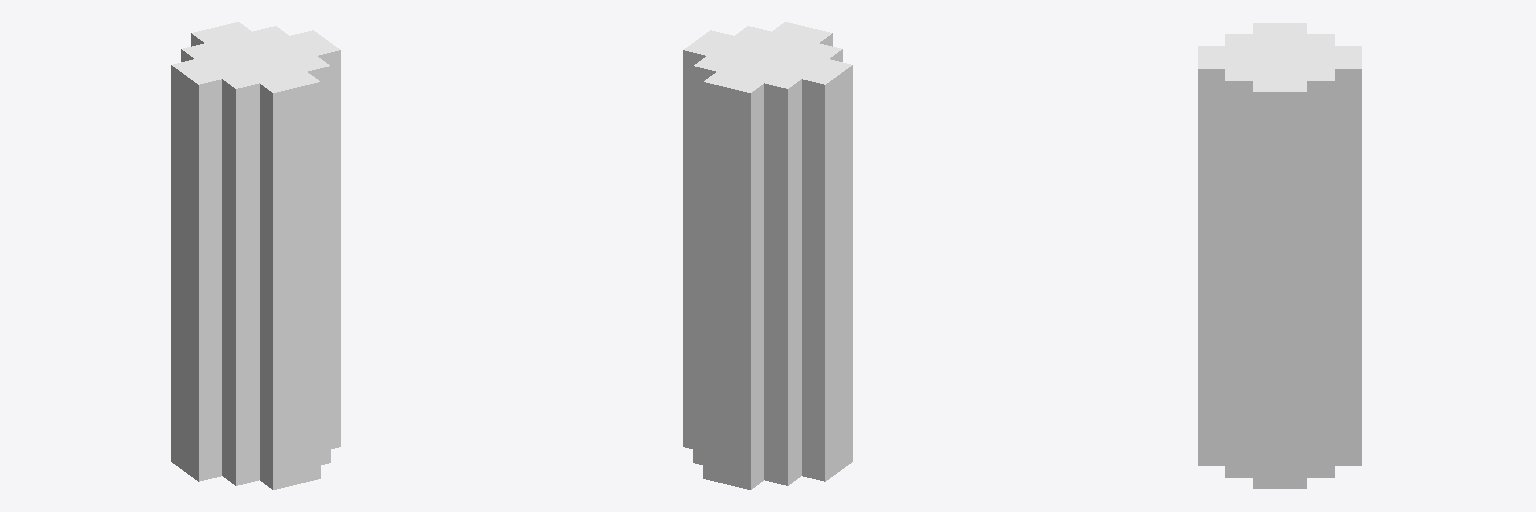
The model's file is MiddleSegment_6x6trans.obj.
3 views of the same model, side by side, from view 1: azimuth 30°, elevation 25°; view 2: azimuth 150°, elevation 25°; view 3: azimuth 270°, elevation 25° (orthographic).
Visible parts, largest first — view 1: object 1; view 2: object 1; view 3: object 1.
Part boxes in pixels (x1,y1,x2,y2): object 1: (171,22,340,489); object 1: (683,22,852,489); object 1: (1198,23,1361,488).
Size of the model in its own units: 0.6 by 1.6 by 0.6.